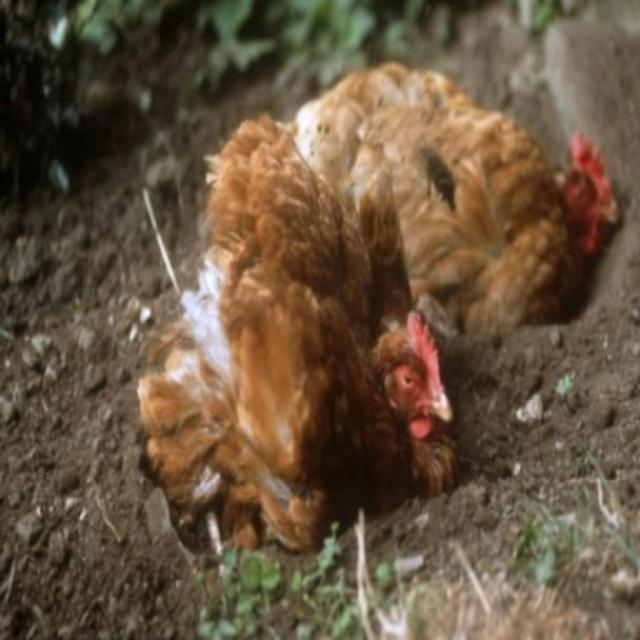Chicken: (133, 118, 450, 635), (275, 63, 621, 338)
